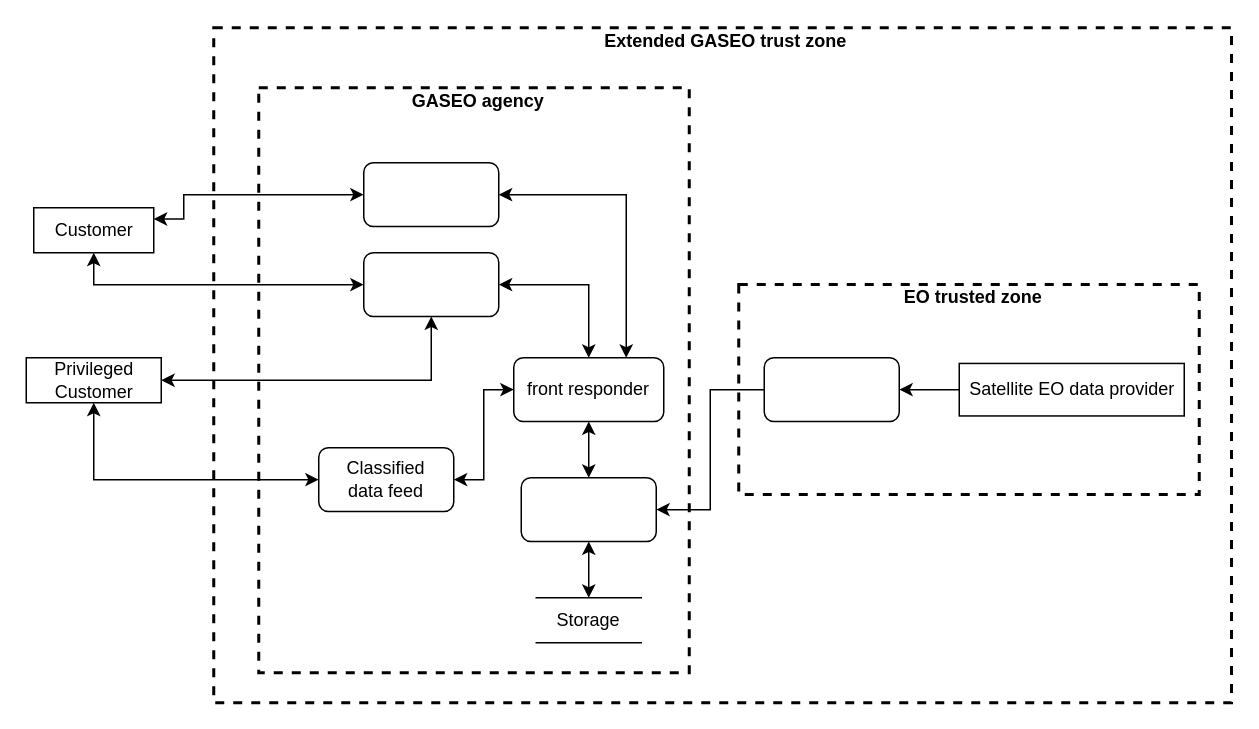
The diagram is 1259 pixels wide and 729 high, and some of its shapes have lost their labels. The centre of each missing label's shape, as x and y in pixels:
"Data broker" goes at point 831,389.
"Private API" goes at point 588,509.
"Public search" goes at point 430,283.
"Unclass data feed" goes at point 430,193.
